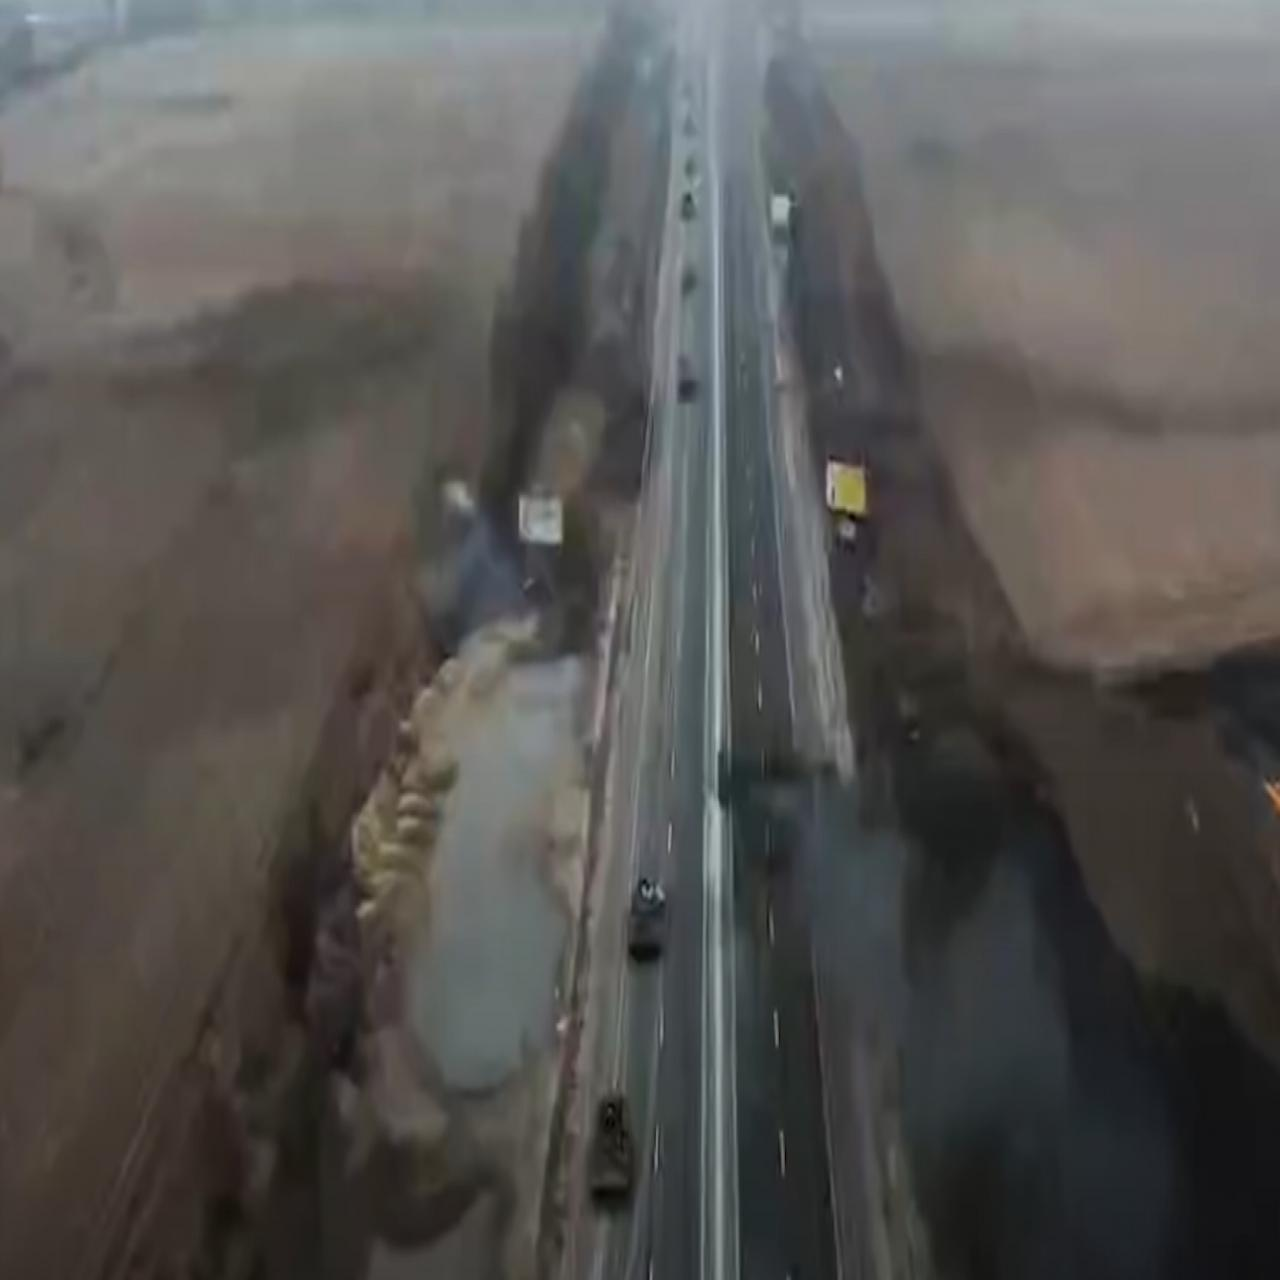MIL_Veh: (578, 1092, 634, 1212), (624, 875, 674, 963)
